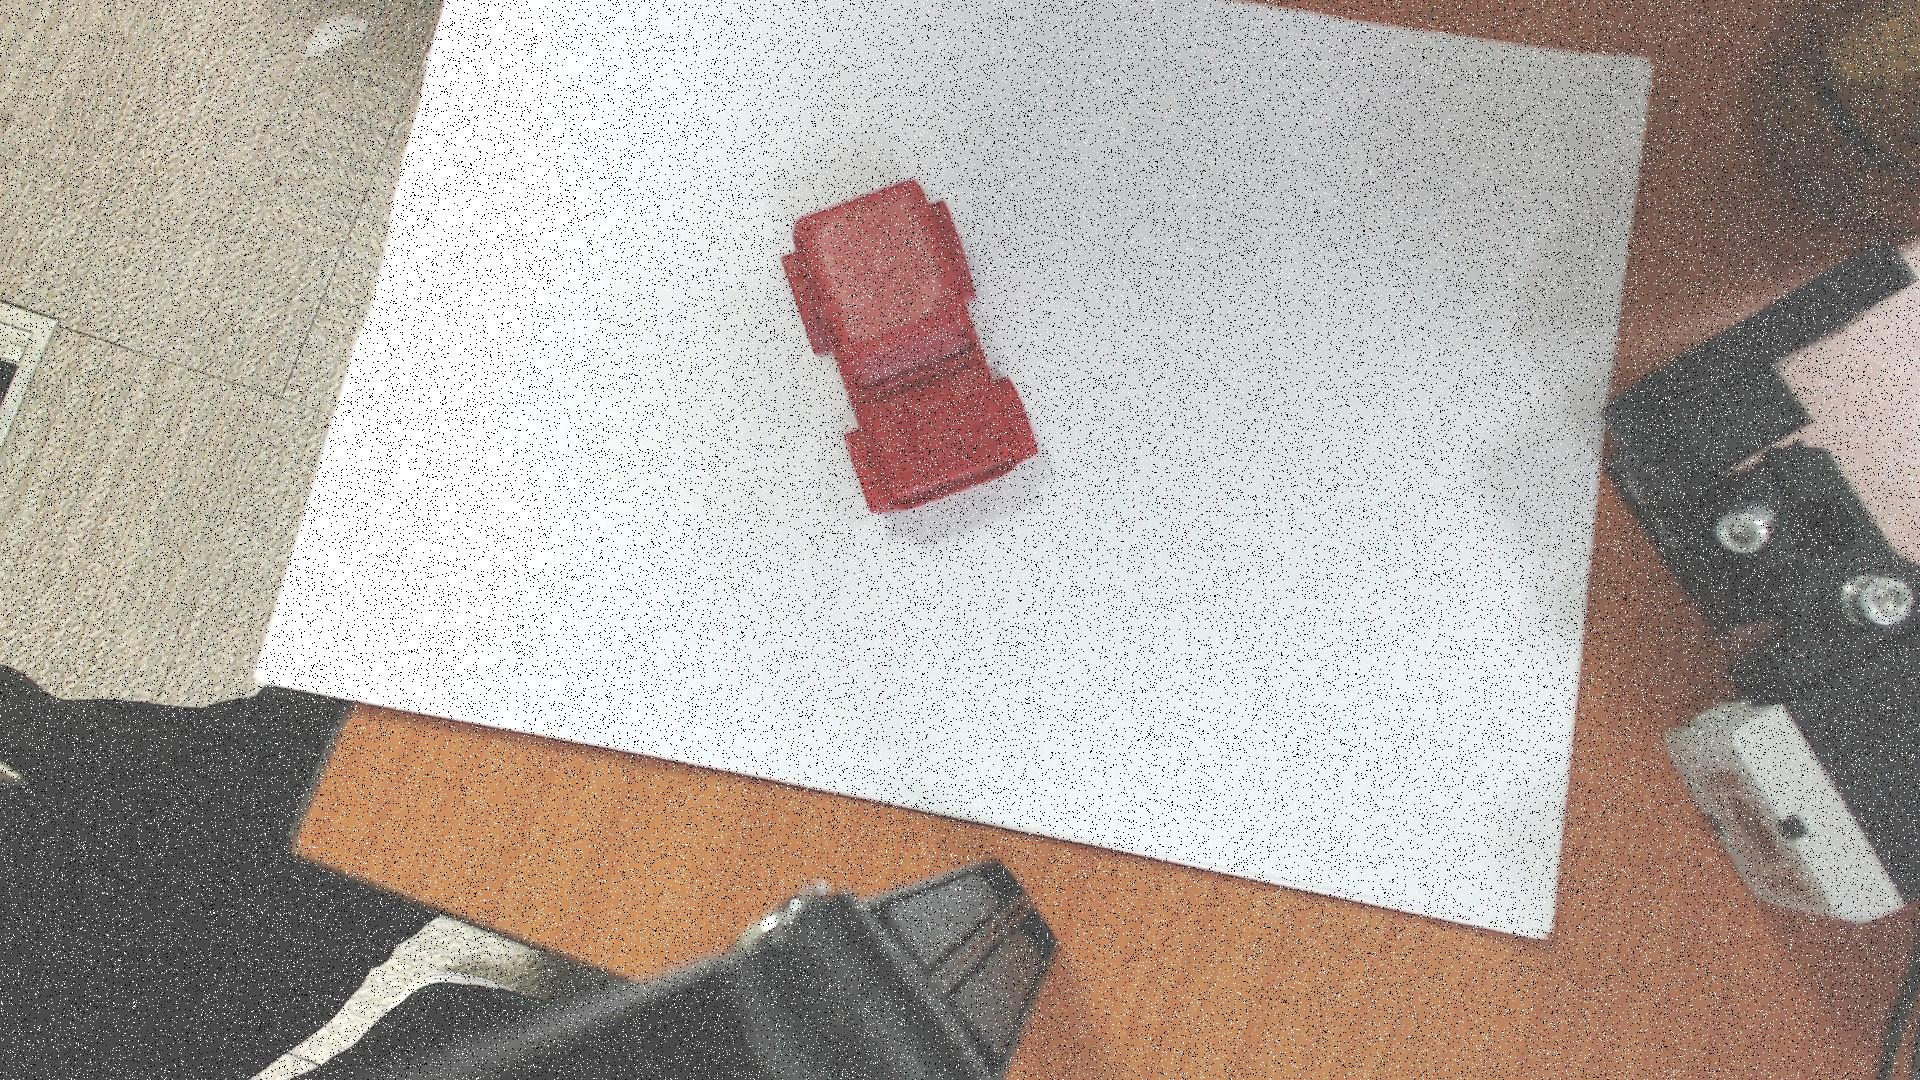Upper_ok: (782, 179, 1036, 512)
